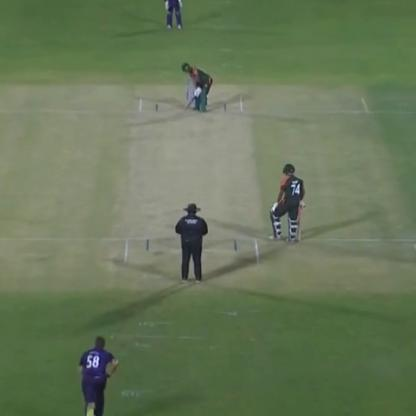bat: (182, 81, 204, 111)
pitch: (116, 96, 264, 272)
